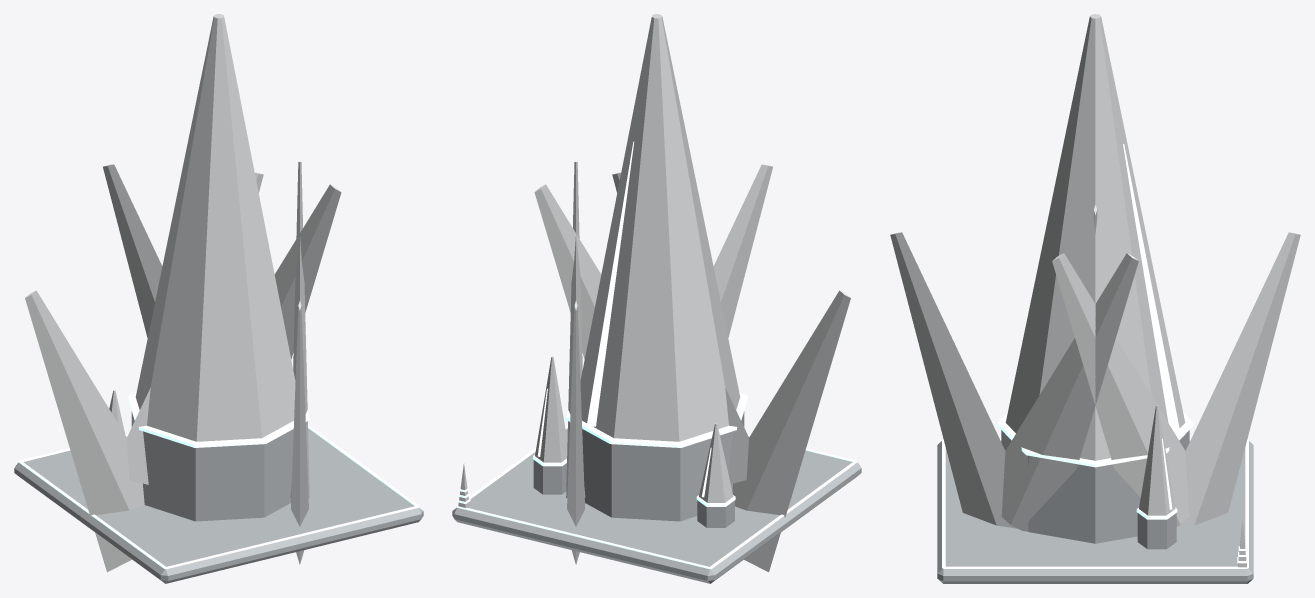
Rendered from zone_high_1_t3.glb.
3 views of the same model, side by side, from view 1: azimuth 30°, elevation 25°; view 2: azimuth 150°, elevation 25°; view 3: azimuth 270°, elevation 25° (orthographic). The views are drawn at different scales.
Visible parts, largest first — view 1: zone_high_1_t3, detail; view 2: zone_high_1_t3, detail; view 3: zone_high_1_t3, detail.
Part boxes in pixels (x1=…): zone_high_1_t3: x1=14, y1=14, x2=423, y2=583; detail: x1=18, y1=424, x2=419, y2=569; zone_high_1_t3: x1=452, y1=14, x2=861, y2=583; detail: x1=456, y1=424, x2=857, y2=569; zone_high_1_t3: x1=890, y1=14, x2=1300, y2=583; detail: x1=942, y1=438, x2=1248, y2=568.
Bounding box in the file's own units: 34.05 × 52.89 × 35.74.
